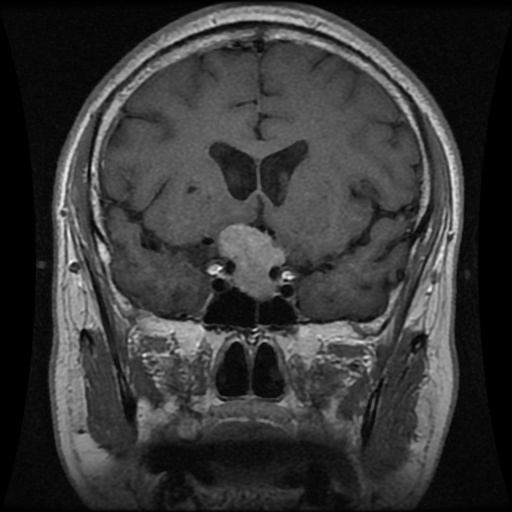pituitary: (218, 224, 284, 299)
